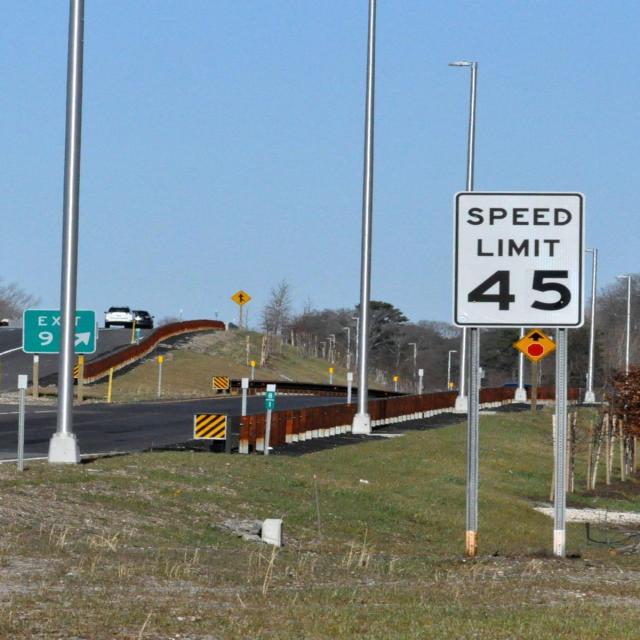speedLimit45: (466, 202, 573, 319)
